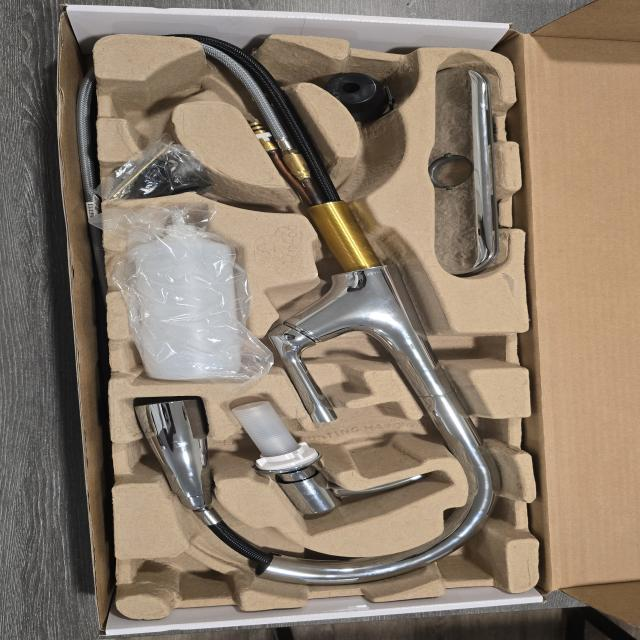1: (136, 39, 503, 584)
2: (230, 402, 424, 515)
3: (129, 207, 242, 383)
4: (430, 67, 499, 276)
5: (325, 73, 393, 125)
6m: (107, 61, 208, 130)
7: (96, 138, 221, 201)
